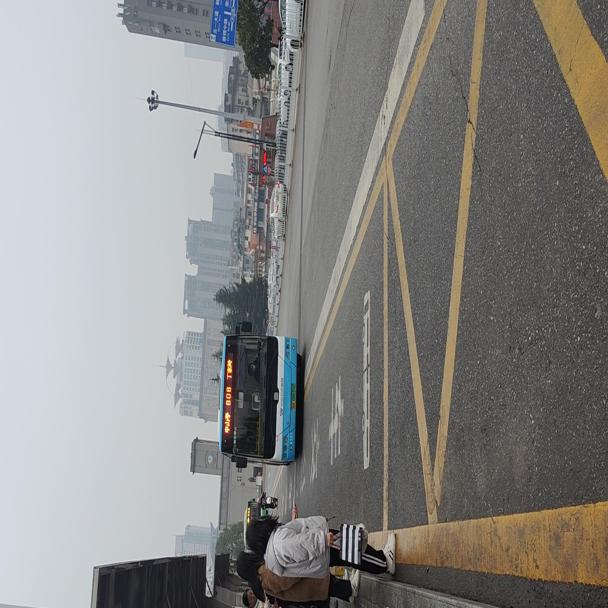bus: (216, 328, 297, 468), (238, 496, 267, 535)
screen: (223, 382, 234, 405)
